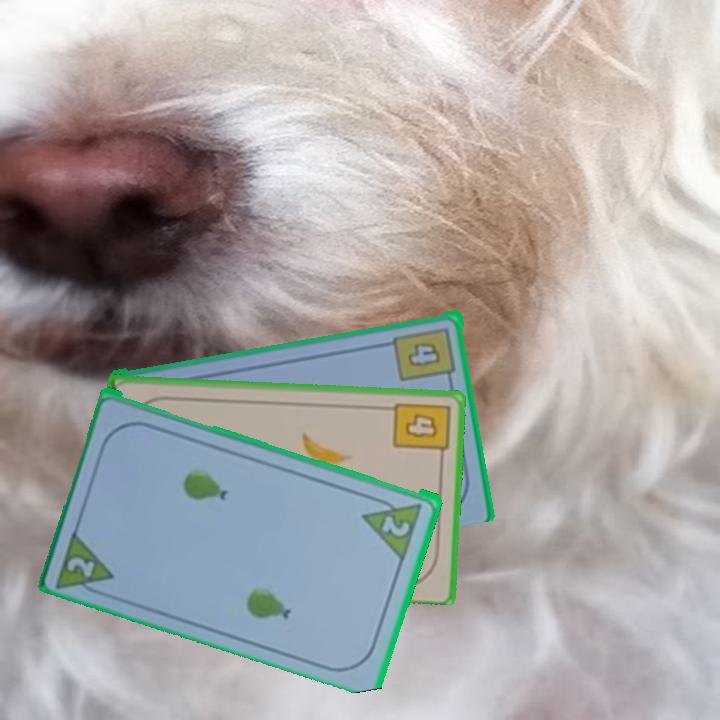2p: (53, 524, 118, 600), (378, 511, 414, 540)
4b: (391, 323, 459, 385), (389, 399, 452, 463)
